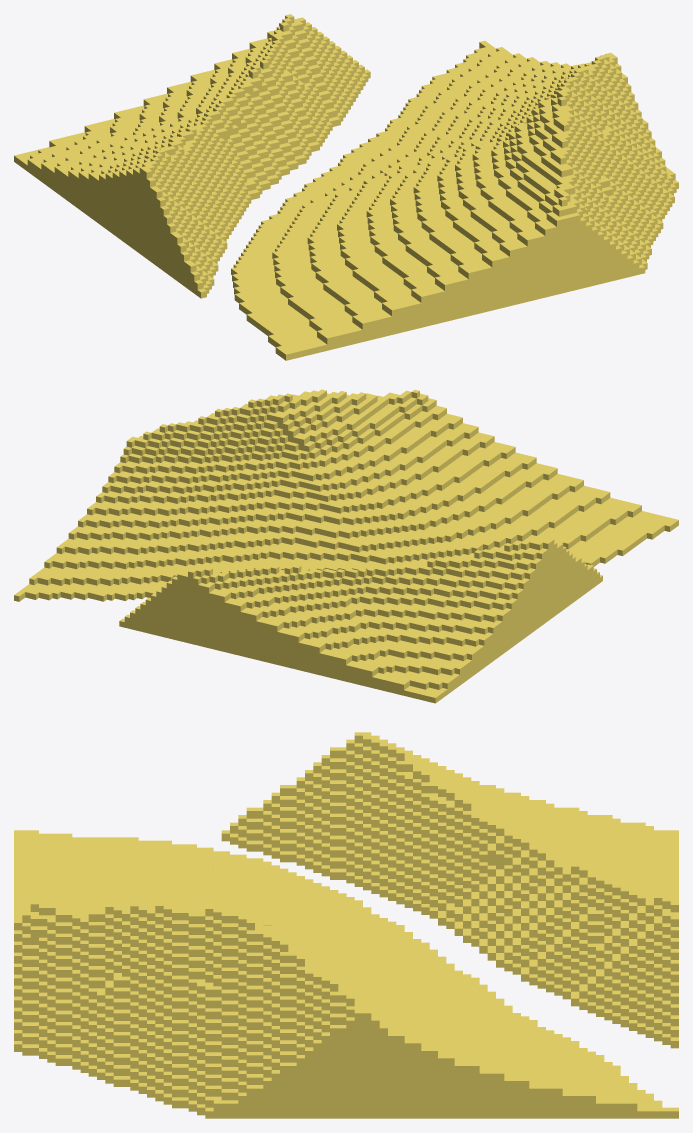
File: dunes_4_overtile.glb
The picture shows the model from 3 angles, top to bottom: view 1: azimuth 30°, elevation 25°; view 2: azimuth 150°, elevation 25°; view 3: azimuth 270°, elevation 25°; orthographic projection. The views are drawn at different scales.
Visible parts, largest first — view 1: dunes_4_overtile; view 2: dunes_4_overtile; view 3: dunes_4_overtile.
Part boxes in pixels (bbox=[...]): dunes_4_overtile: bbox=[14, 14, 678, 360]; dunes_4_overtile: bbox=[14, 389, 678, 703]; dunes_4_overtile: bbox=[14, 732, 678, 1118].
Bounding box in the file's own units: 8 × 1.9 × 8.
1 material, 1 textured.
